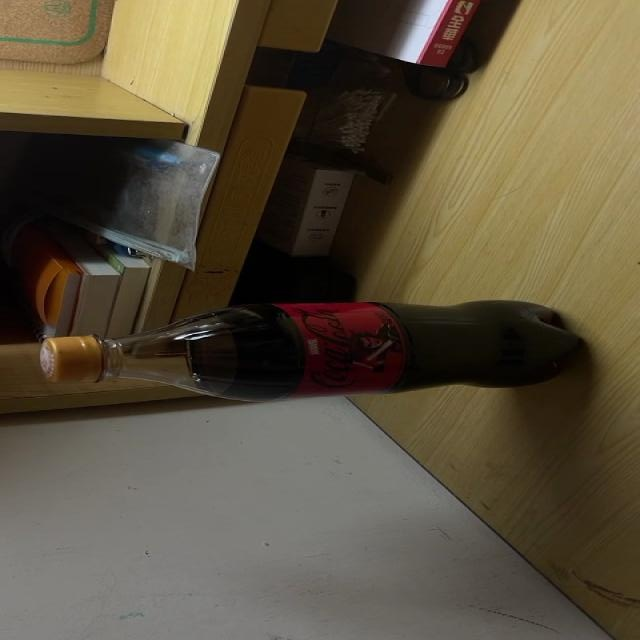Coca-Cola: (36, 298, 592, 404)
